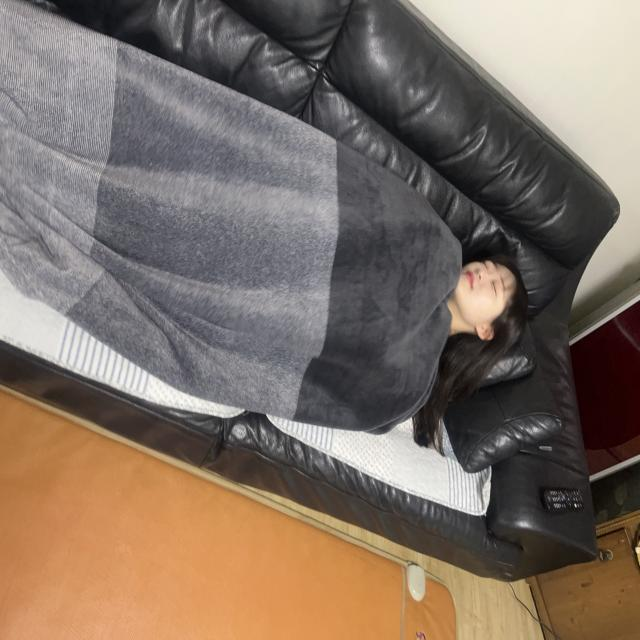people: (0, 2, 547, 469)
